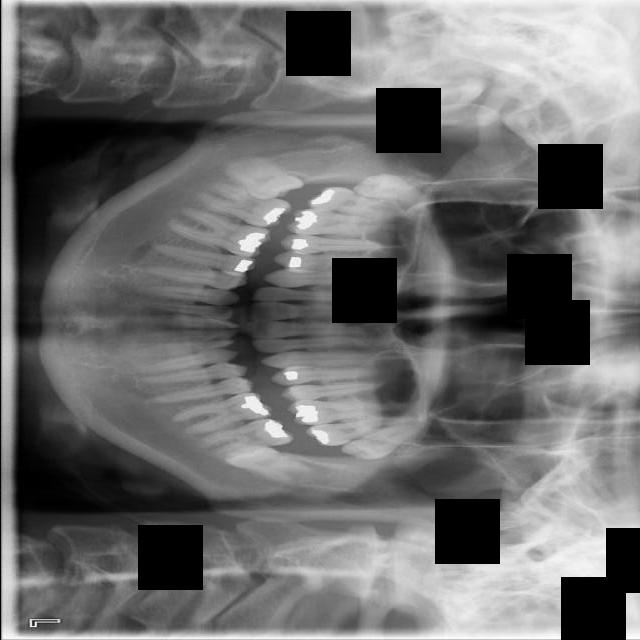3M ESPE Implant: (351, 166, 441, 216)
52: (238, 185, 294, 241), (225, 216, 273, 266), (286, 208, 335, 236), (246, 418, 293, 447), (286, 398, 332, 426), (307, 186, 355, 212), (228, 393, 272, 420), (273, 249, 318, 275), (268, 364, 314, 388), (305, 424, 348, 447), (279, 232, 320, 255), (219, 253, 255, 279)
73: (15, 623, 25, 634)
BioHorizons Implant: (304, 410, 417, 451)
BioLife Implant: (338, 413, 424, 472)
Biomet 3i Implant: (221, 434, 315, 492)
Blue Sky Bio Implant: (193, 412, 294, 465)
Caries: (307, 183, 418, 224)
Implant: (191, 177, 293, 234)
Keystone Dental Implant: (218, 141, 305, 217)
